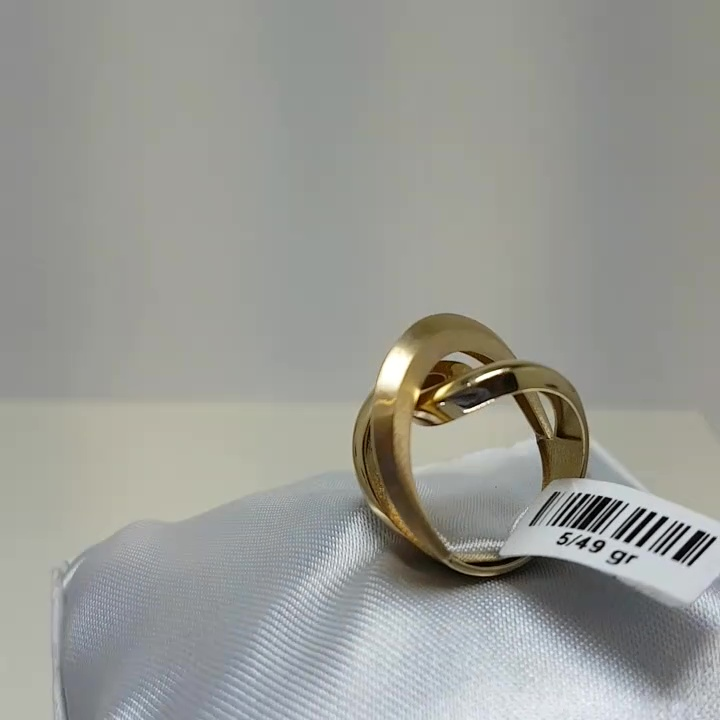Ring 3: (319, 282, 608, 602)
